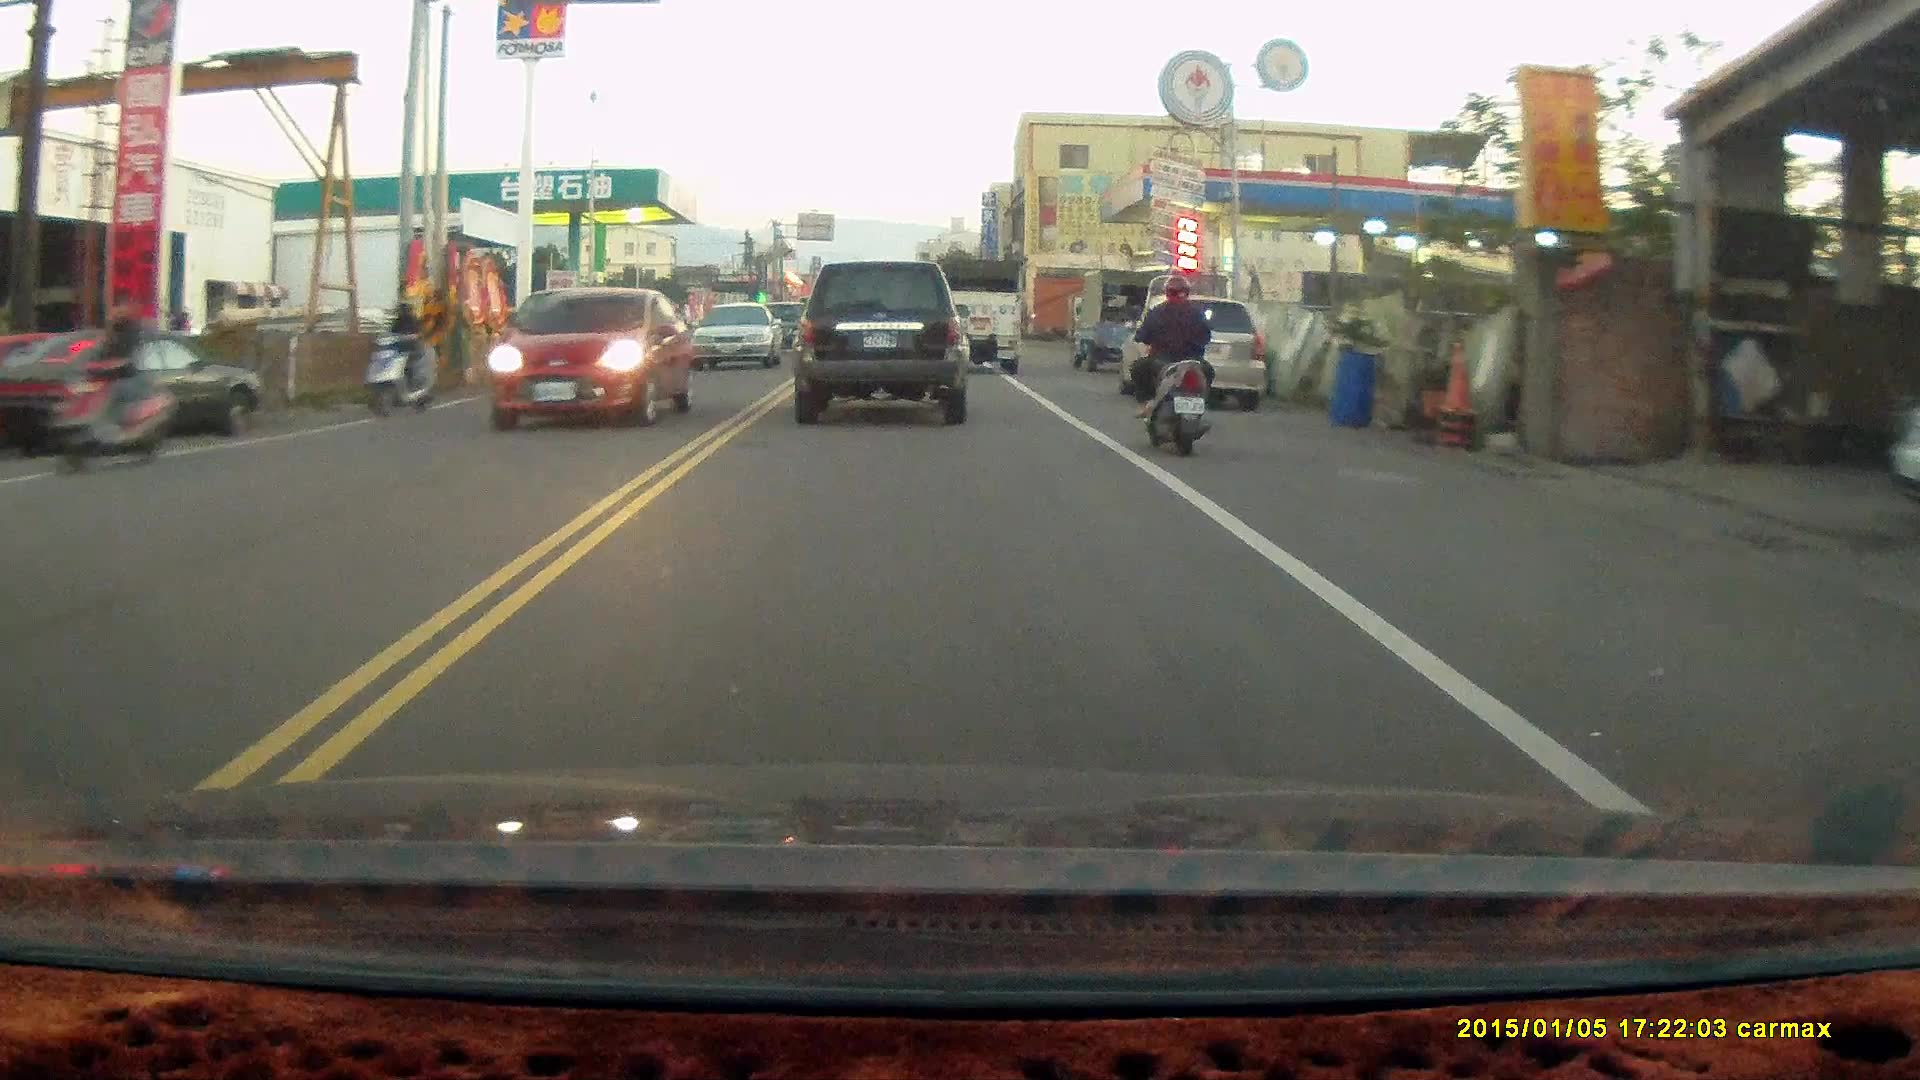rider: (50, 296, 178, 474), (1124, 267, 1220, 450), (355, 292, 439, 420)
vehicle: (4, 326, 273, 454), (791, 259, 969, 425), (487, 288, 692, 430), (1118, 295, 1274, 415), (490, 284, 641, 399), (930, 252, 1020, 372), (693, 300, 785, 368)
